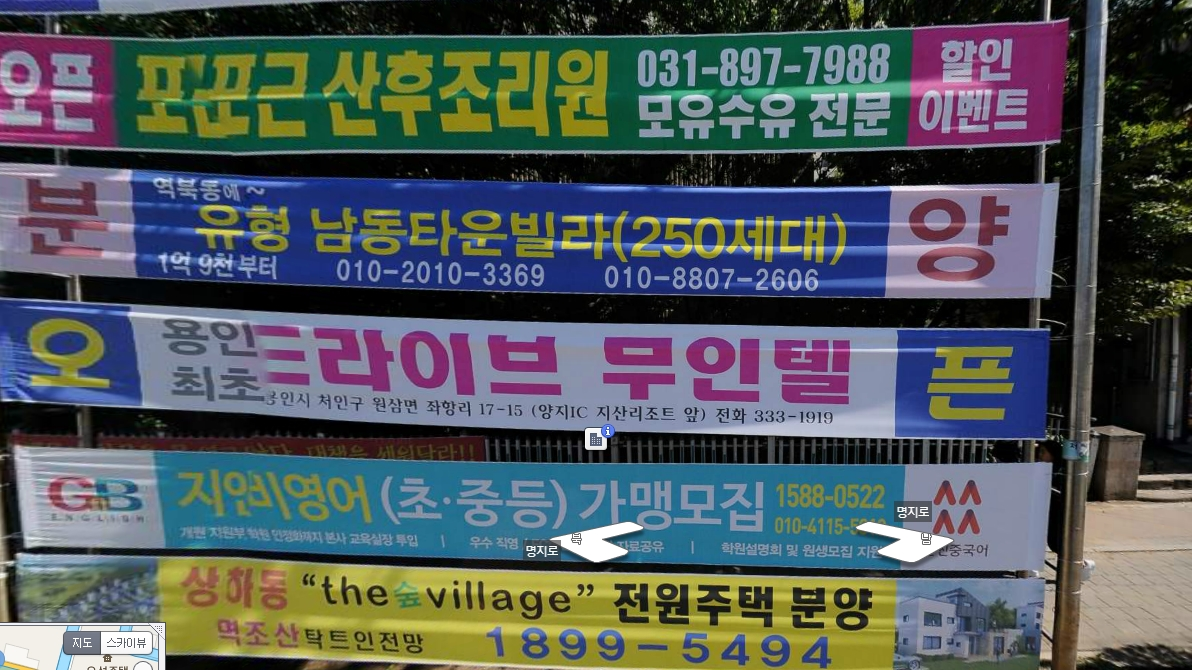banner: (1, 149, 1116, 327), (1, 271, 1097, 452), (1, 432, 1101, 576), (1, 23, 1123, 162), (27, 560, 1074, 670)
